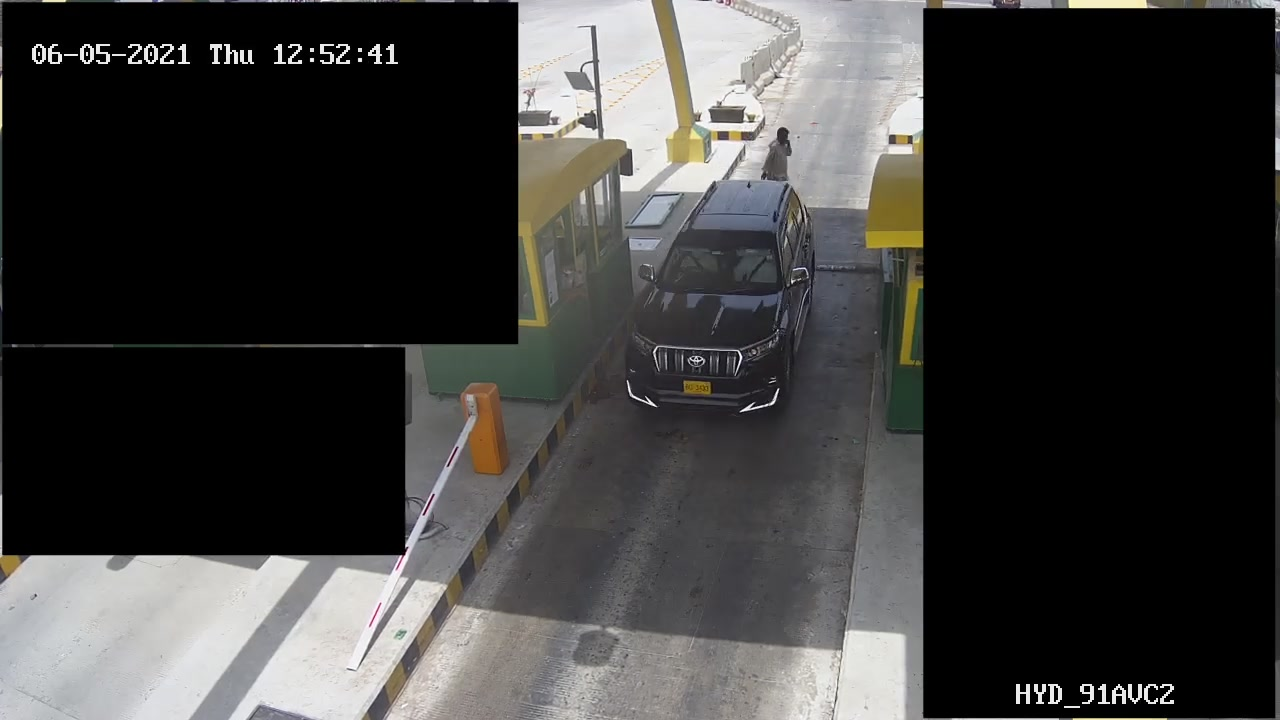F1: (620, 169, 812, 420)
